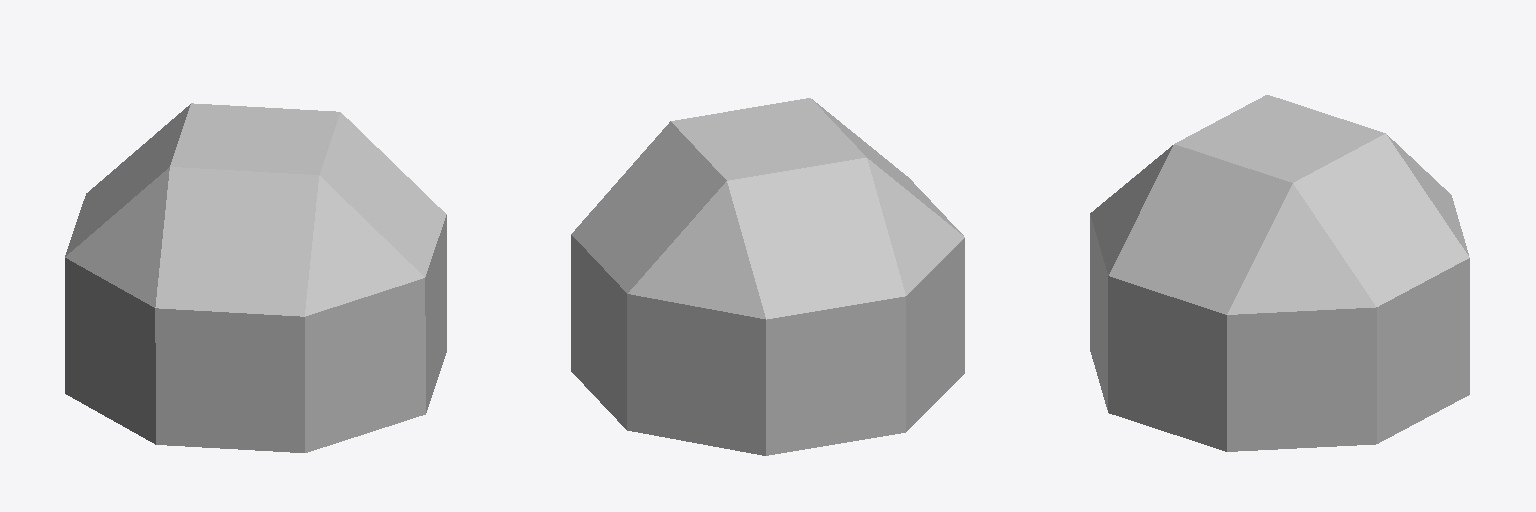
The model's file is ElongatedSquareCupola.obj.
The picture shows the model from 3 angles: view 1: azimuth 30°, elevation 25°; view 2: azimuth 150°, elevation 25°; view 3: azimuth 270°, elevation 25°; orthographic projection.
Parts seen in each view (by area): view 1: ElongatedSquareCupola; view 2: ElongatedSquareCupola; view 3: ElongatedSquareCupola.
Boxes of the visible parts, <box> form: ElongatedSquareCupola: <box>65,103,446,452</box>; ElongatedSquareCupola: <box>571,98,964,455</box>; ElongatedSquareCupola: <box>1090,95,1469,451</box>.
Size of the model in its own units: 1.89 by 1.29 by 1.89.